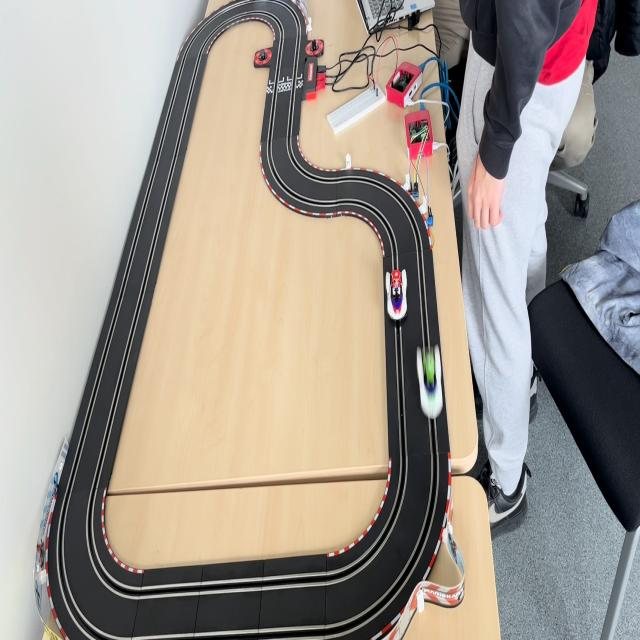mario: (386, 266, 407, 323)
yoshi: (413, 344, 441, 416)
